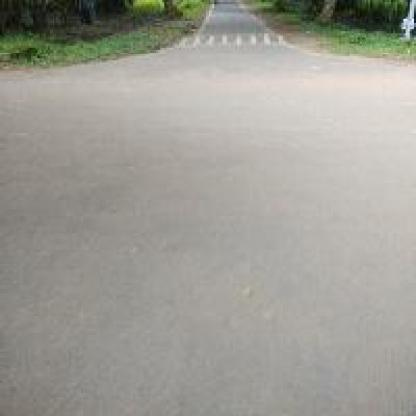Speed Bump: (175, 27, 289, 50)
